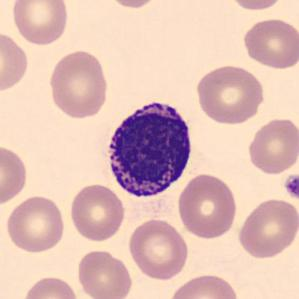Basophil: (98, 93, 198, 203)
Platelets: (282, 172, 299, 201)
RBC: (192, 62, 268, 126), (46, 47, 110, 120), (175, 171, 239, 240), (126, 216, 190, 282), (236, 196, 298, 260), (4, 194, 68, 254), (67, 182, 127, 243), (245, 116, 298, 177), (240, 15, 298, 70), (74, 247, 134, 299), (9, 0, 70, 47), (166, 271, 241, 299), (0, 28, 31, 94), (0, 141, 30, 208), (20, 274, 80, 299), (224, 0, 288, 12), (99, 0, 164, 9)
